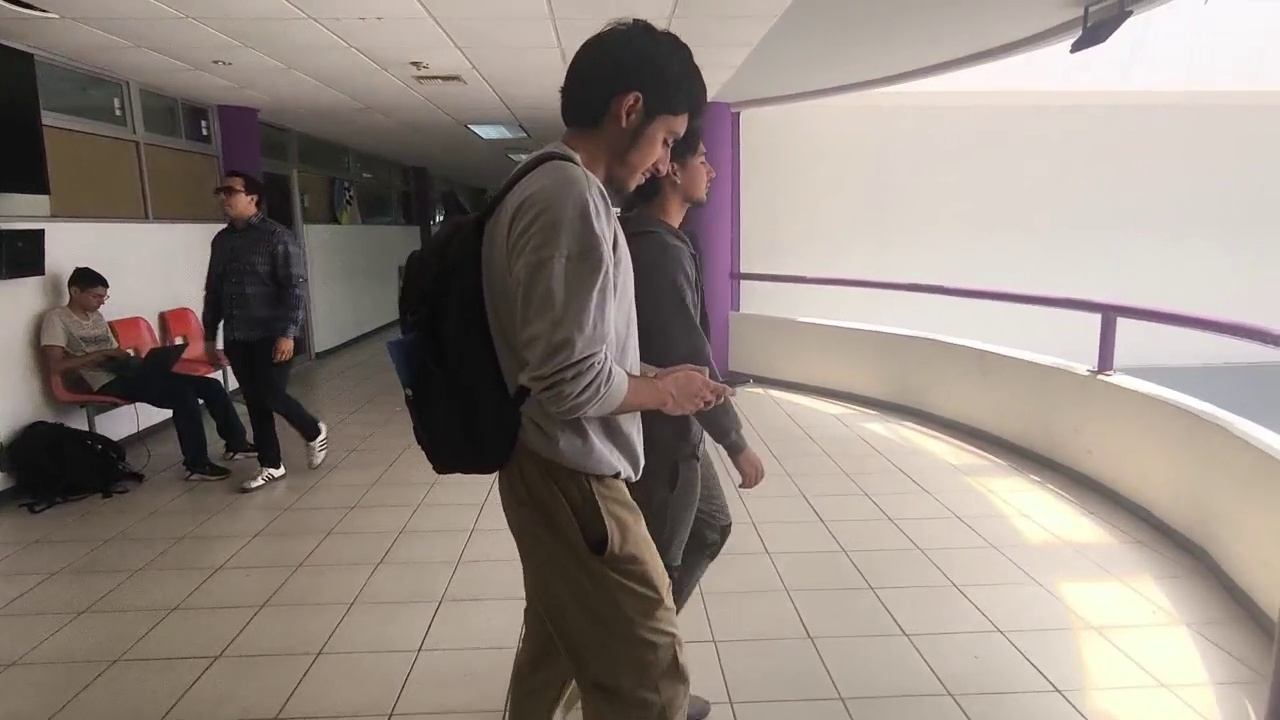mixto2: (707, 364, 756, 391)
